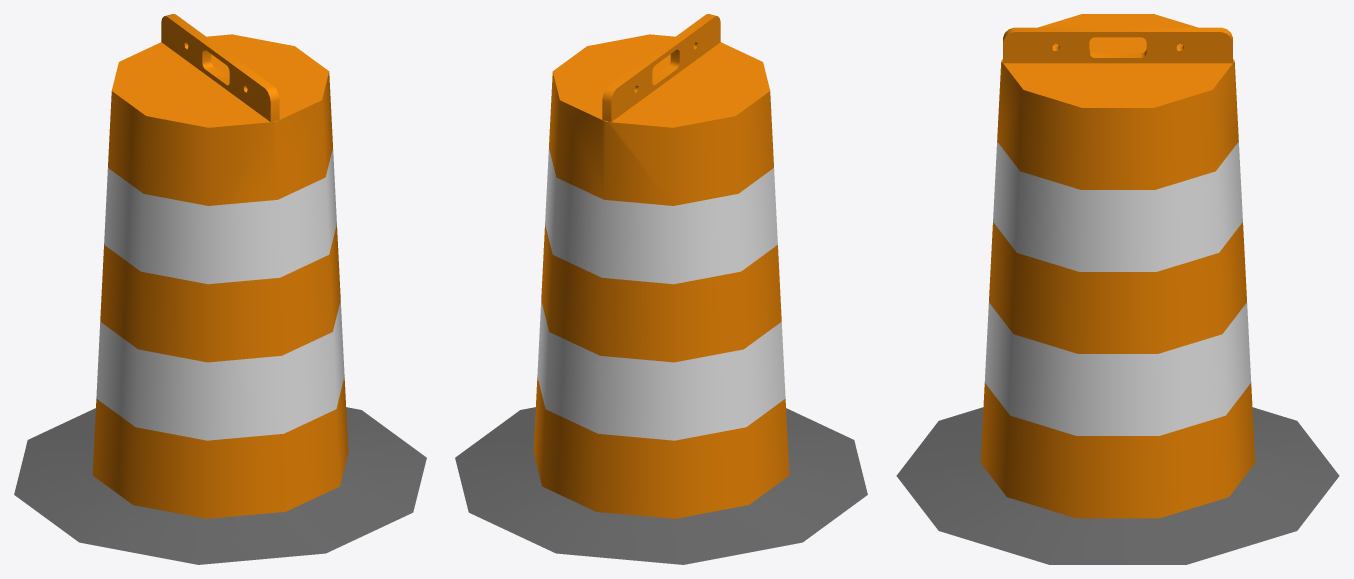
The model's file is DangerCone.fbx.
3 renders of one model, left to right at view 1: azimuth 30°, elevation 25°; view 2: azimuth 150°, elevation 25°; view 3: azimuth 270°, elevation 25°, orthographic. The views are drawn at different scales.
Parts seen in each view (by area): view 1: DangerCone; view 2: DangerCone; view 3: DangerCone.
Part boxes in pixels (x1=…): DangerCone: x1=14, y1=14, x2=426, y2=564; DangerCone: x1=455, y1=14, x2=867, y2=564; DangerCone: x1=896, y1=14, x2=1339, y2=564.
Size of the model in its own units: 73.65 by 86 by 77.44.
